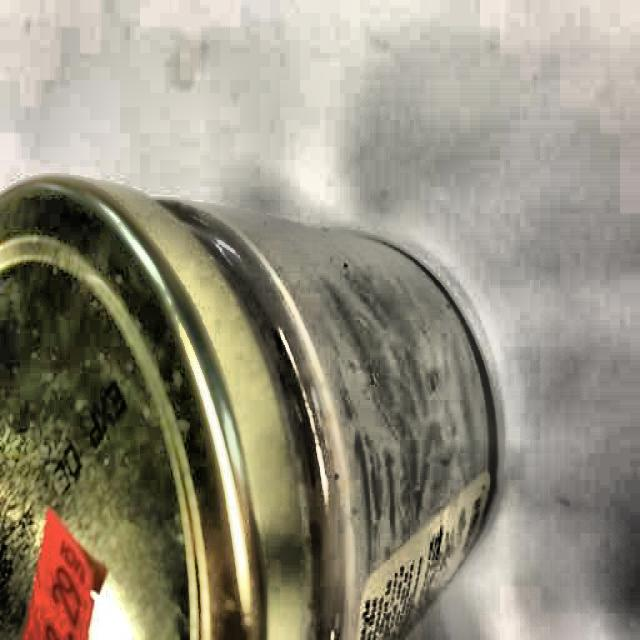glass: (0, 164, 494, 639)
